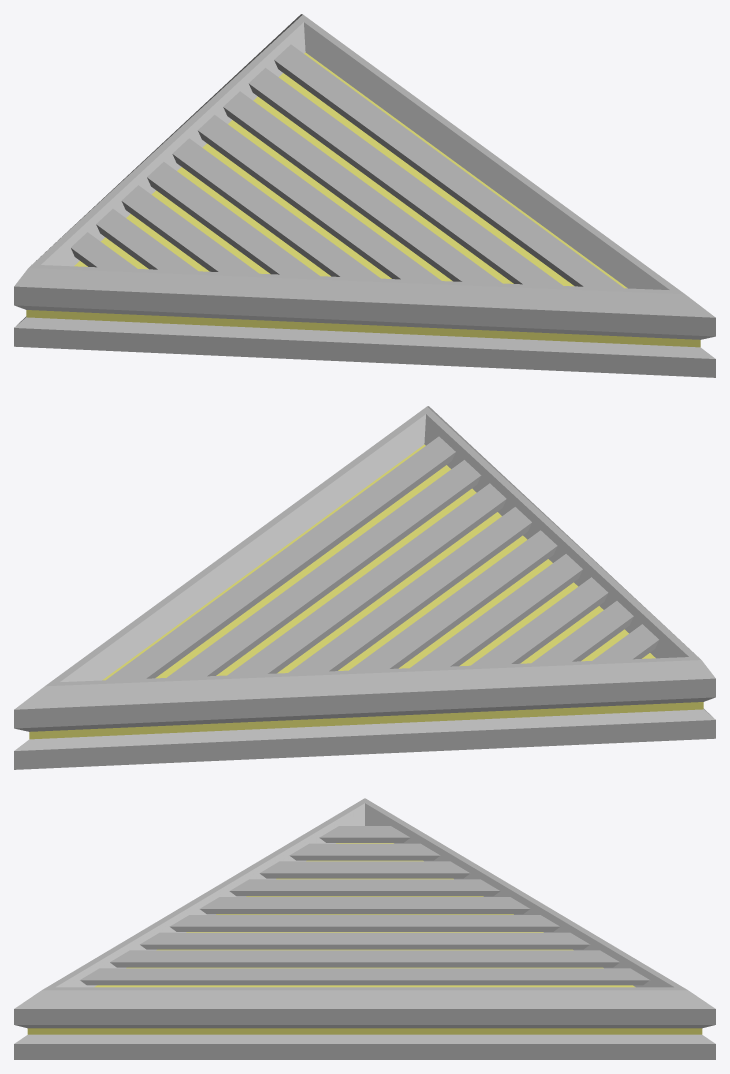
File: Platform_wedge.fbx
3 renders of one model, top to bottom at view 1: azimuth 30°, elevation 25°; view 2: azimuth 150°, elevation 25°; view 3: azimuth 270°, elevation 25°, orthographic. The views are drawn at different scales.
Visible parts, largest first — view 1: mesh_platform_wedge; view 2: mesh_platform_wedge; view 3: mesh_platform_wedge.
Boxes of the visible parts, x1,y1,x2,y2 form: mesh_platform_wedge: [14, 14, 715, 377]; mesh_platform_wedge: [14, 406, 715, 769]; mesh_platform_wedge: [14, 798, 715, 1059].
Size of the model in its own units: 6.88 by 1 by 10.
